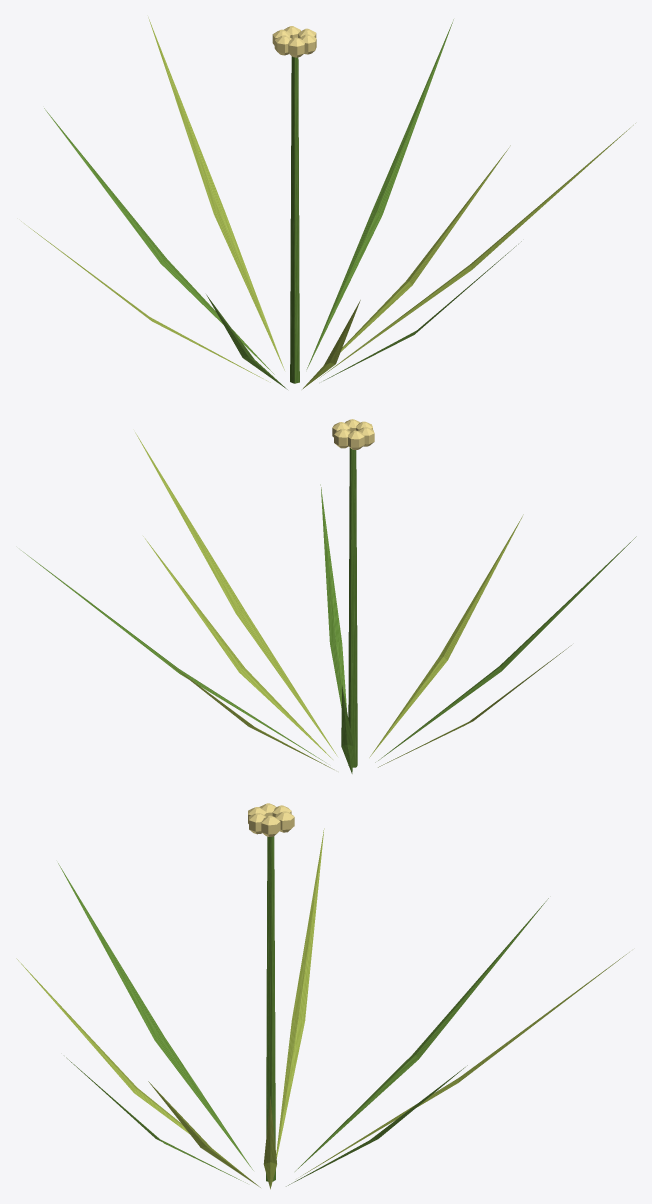
The model's file is crop-scallion-ready.glb.
3 renders of one model, top to bottom at view 1: azimuth 30°, elevation 25°; view 2: azimuth 150°, elevation 25°; view 3: azimuth 270°, elevation 25°, orthographic. The views are drawn at different scales.
Parts seen in each view (by area): view 1: crop-scallion-ready; view 2: crop-scallion-ready; view 3: crop-scallion-ready.
Part boxes in pixels (x1,y1,x2,y2): crop-scallion-ready: [21, 17, 635, 389]; crop-scallion-ready: [21, 419, 636, 773]; crop-scallion-ready: [16, 803, 629, 1189].
Bounding box in the file's own units: 1.57 × 0.967 × 1.48.
Materials: 1 (1 with a texture image).
